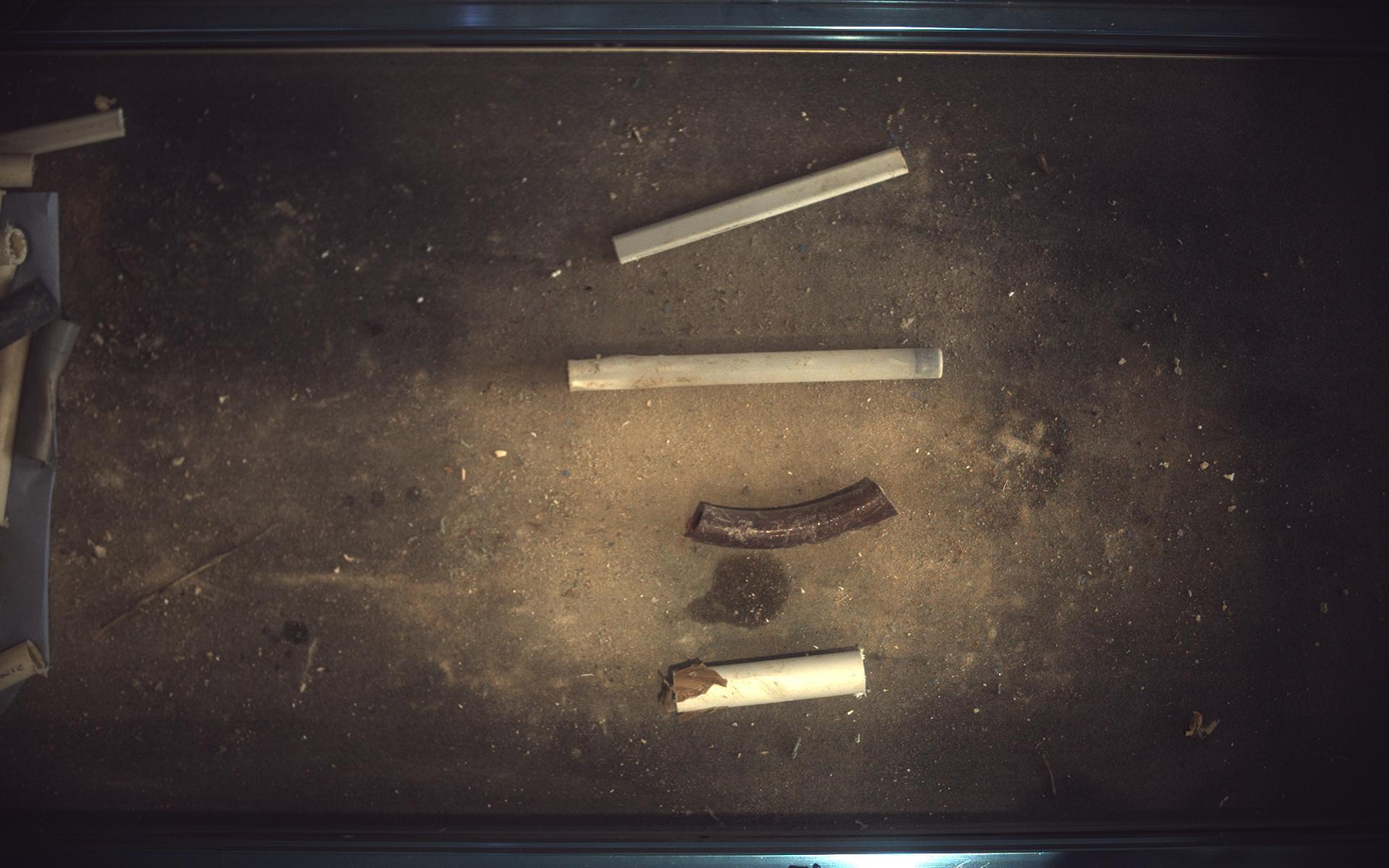pipes: (570, 348, 945, 391), (687, 478, 899, 549), (662, 648, 867, 720)
plastic: (613, 147, 910, 263)
